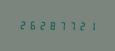eight: (47, 19, 56, 30)
one: (87, 20, 96, 31)
seven: (57, 19, 66, 31), (67, 20, 76, 31)
six: (27, 19, 36, 30)
two: (17, 19, 26, 30), (37, 19, 46, 30), (77, 20, 86, 31)
